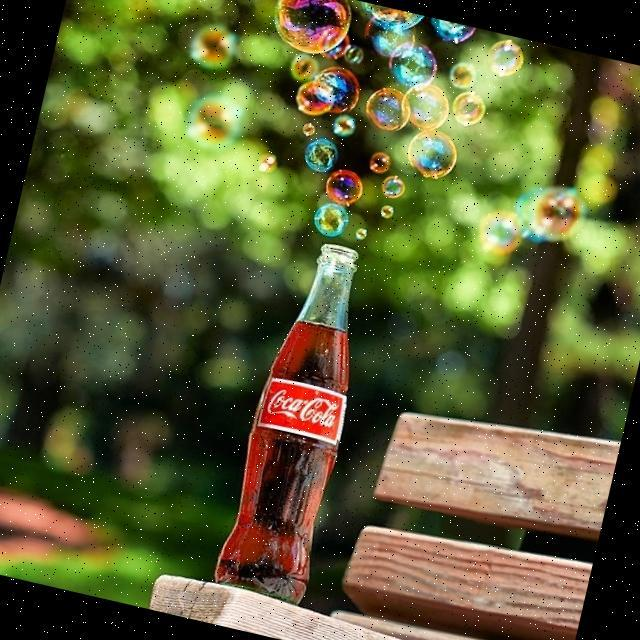coca-cola: (213, 234, 387, 606)
